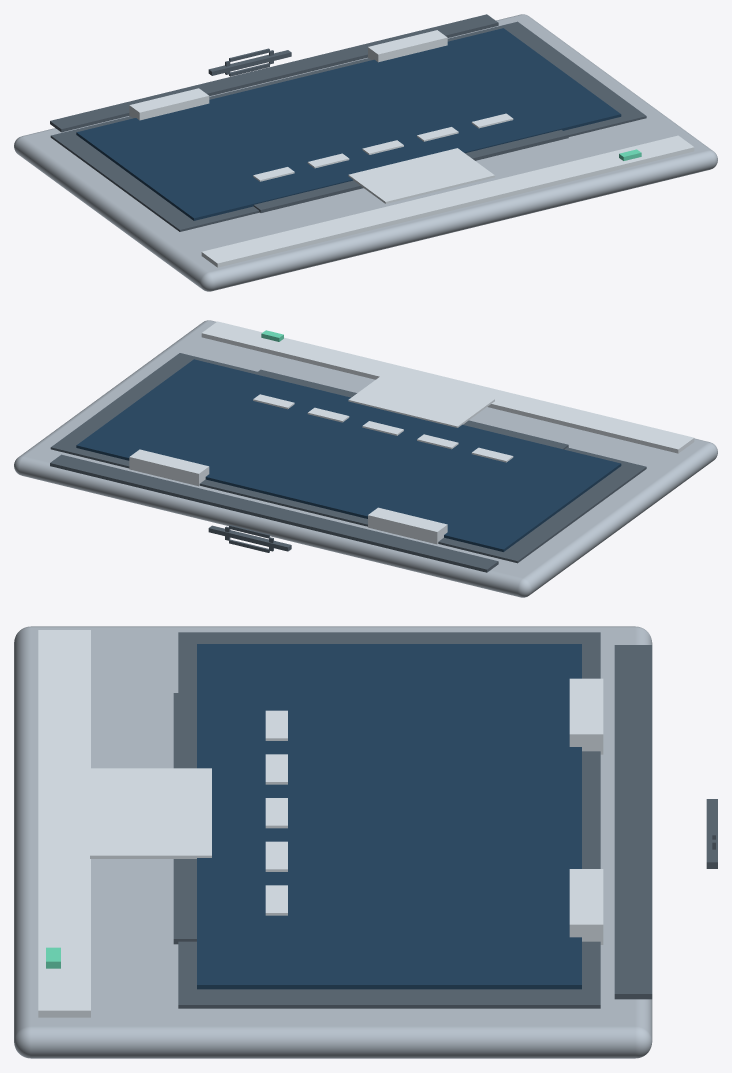
The picture shows the model from 3 angles, top to bottom: view 1: azimuth 30°, elevation 25°; view 2: azimuth 150°, elevation 25°; view 3: azimuth 270°, elevation 25°; orthographic projection. The views are drawn at different scales.
Parts seen in each view (by area): view 1: screen-surface, laptop-body, laptop-accent, screen-bezel, laptop-detail, trackpad, keyboard-deck, hinge-left, hinge-right, power-port-back; view 2: screen-surface, laptop-body, laptop-accent, screen-bezel, laptop-detail, trackpad, hinge-right, hinge-left, keyboard-deck, power-port-back; view 3: screen-surface, laptop-body, laptop-accent, screen-bezel, laptop-detail, trackpad, keyboard-deck, hinge-left, hinge-right, key-row--0.055, key-row-0.11, key-row--0.11 (+3 smaller).
Part boxes in pixels (x1=…): screen-surface: x1=76, y1=28, x2=621, y2=220; laptop-body: x1=14, y1=14, x2=717, y2=291; laptop-accent: x1=201, y1=135, x2=694, y2=267; screen-bezel: x1=50, y1=21, x2=646, y2=231; laptop-detail: x1=50, y1=14, x2=498, y2=132; trackpad: x1=348, y1=148, x2=494, y2=203; keyboard-deck: x1=253, y1=130, x2=568, y2=212; hinge-left: x1=129, y1=88, x2=209, y2=120; hinge-right: x1=368, y1=30, x2=447, y2=62; power-port-back: x1=208, y1=50, x2=291, y2=75; screen-surface: x1=76, y1=359, x2=621, y2=551; laptop-body: x1=14, y1=320, x2=717, y2=597; laptop-accent: x1=201, y1=321, x2=694, y2=453; screen-bezel: x1=50, y1=353, x2=646, y2=563; laptop-detail: x1=50, y1=454, x2=498, y2=572; trackpad: x1=348, y1=372, x2=494, y2=427; hinge-right: x1=129, y1=449, x2=209, y2=486; hinge-left: x1=368, y1=507, x2=447, y2=544; keyboard-deck: x1=255, y1=369, x2=568, y2=449; power-port-back: x1=208, y1=525, x2=291, y2=551; screen-surface: x1=197, y1=644, x2=581, y2=989; laptop-body: x1=14, y1=626, x2=652, y2=1058; laptop-accent: x1=38, y1=630, x2=90, y2=1017; screen-bezel: x1=178, y1=632, x2=600, y2=1008; laptop-detail: x1=614, y1=645, x2=652, y2=999; trackpad: x1=90, y1=768, x2=211, y2=858; keyboard-deck: x1=173, y1=693, x2=196, y2=944; hinge-left: x1=569, y1=678, x2=603, y2=754; hinge-right: x1=569, y1=869, x2=603, y2=944; key-row--0.055: x1=265, y1=754, x2=287, y2=784; key-row-0.11: x1=265, y1=885, x2=287, y2=915; key-row--0.11: x1=265, y1=710, x2=287, y2=740.
Size of the model in its own units: 0.52 by 0.033 by 0.375.
